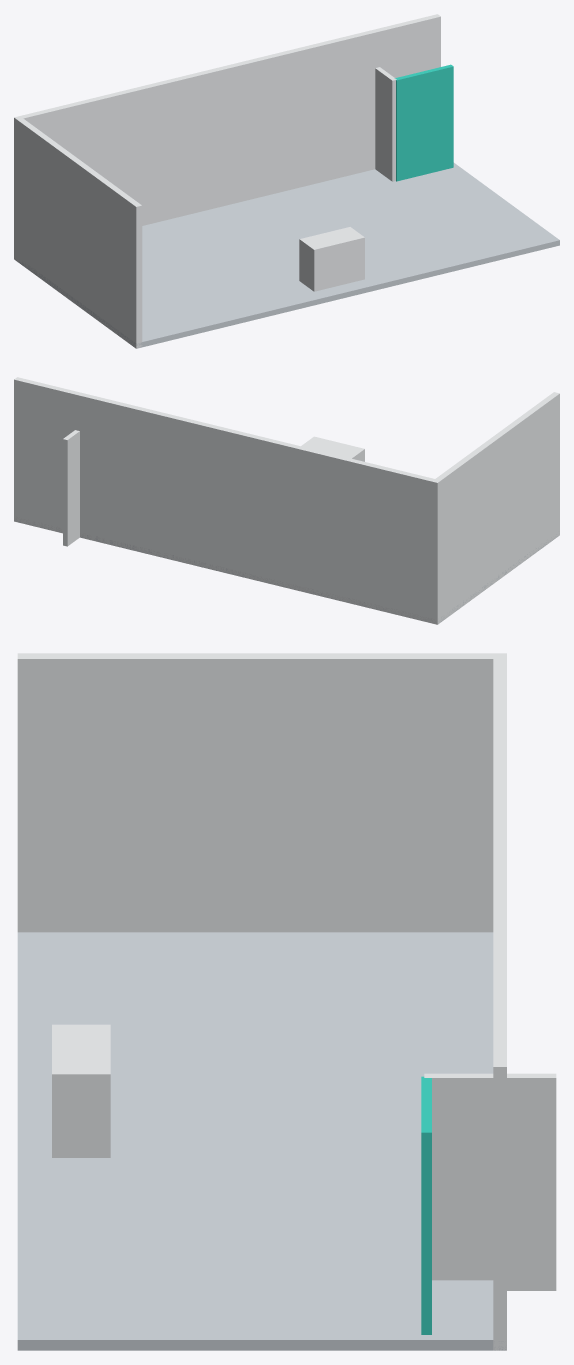
3 views of the same model, one above another, from view 1: azimuth 30°, elevation 25°; view 2: azimuth 150°, elevation 25°; view 3: azimuth 270°, elevation 25° (orthographic). The views are drawn at different scales.
Visible parts, largest first — view 1: Exhibition Booth Concept; view 2: Exhibition Booth Concept; view 3: Exhibition Booth Concept.
Part boxes in pixels (box(x1,y1,x2,y2)): Exhibition Booth Concept: box(14, 14, 559, 348); Exhibition Booth Concept: box(14, 377, 559, 624); Exhibition Booth Concept: box(17, 653, 556, 1350).
Bounding box in the file's own units: 10 × 3.2 × 5.51.
